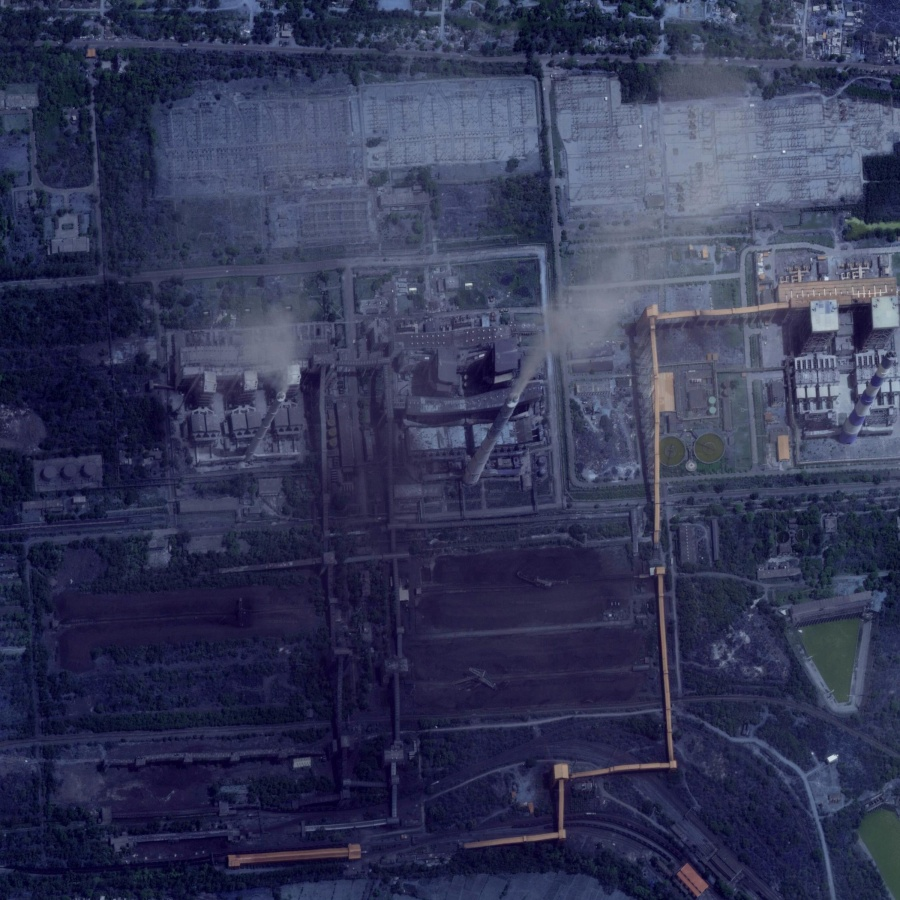PowerPlant: (24, 332, 657, 896)
